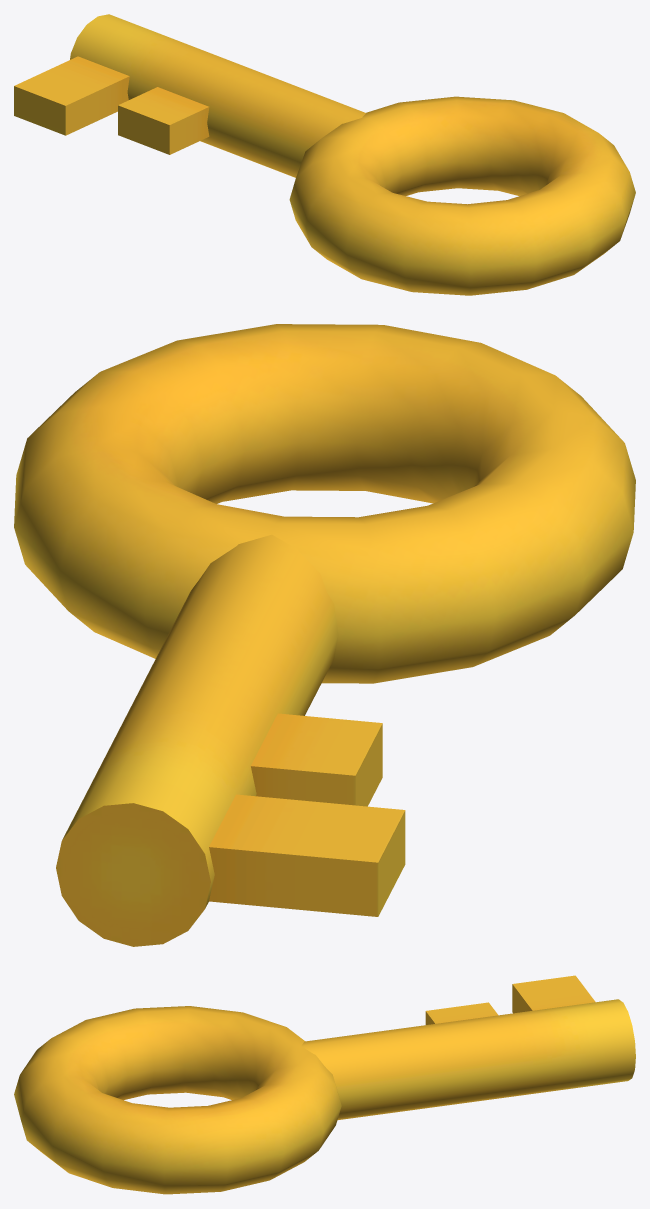
Rendered from key.fbx.
The picture shows the model from 3 angles, top to bottom: view 1: azimuth 30°, elevation 25°; view 2: azimuth 150°, elevation 25°; view 3: azimuth 270°, elevation 25°; orthographic projection. The views are drawn at different scales.
Parts seen in each view (by area): view 1: key; view 2: key; view 3: key.
Boxes of the visible parts, box(x1,y1,x2,y2) form: key: box(14, 14, 635, 295); key: box(14, 324, 635, 946); key: box(14, 975, 635, 1194).
Bounding box in the file's own units: 0.1684 × 0.0345 × 0.2462.
